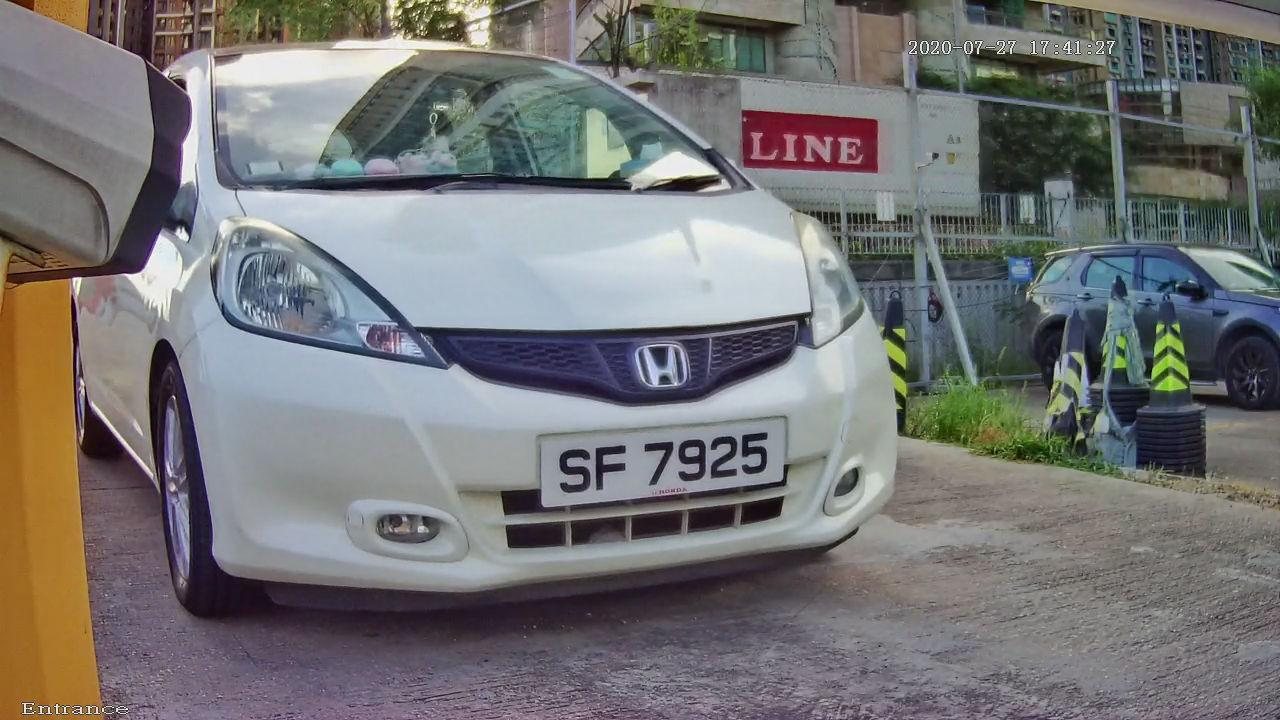privatecar: (103, 39, 938, 611)
